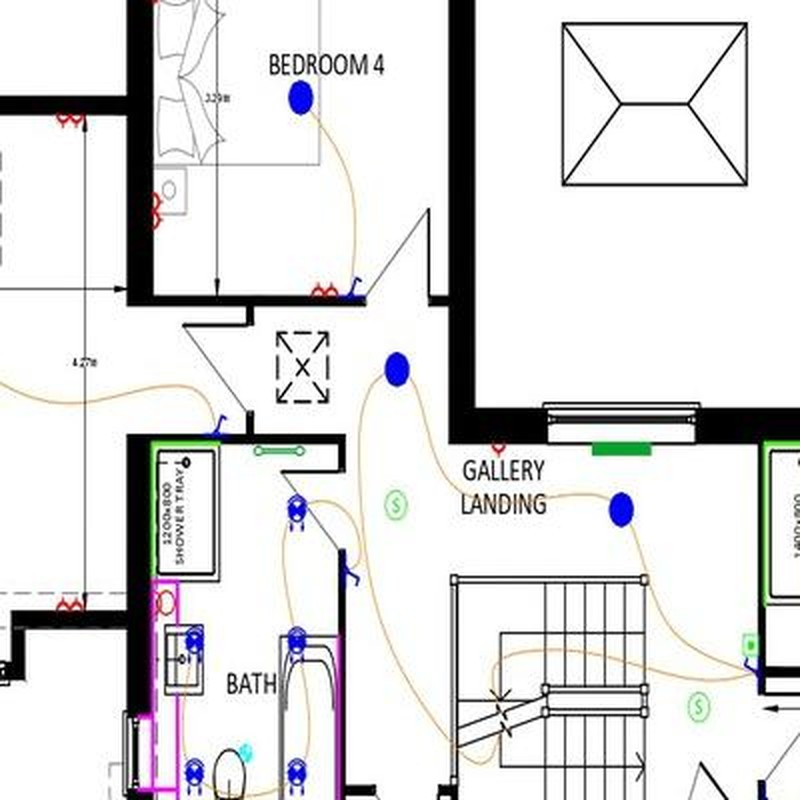Ceiling Mounted Continuous Extract FanWith Boost Mode Activated By Light Switch: (239, 744, 253, 762)
Double Socket: (55, 114, 84, 129), (153, 193, 165, 229), (55, 596, 83, 611), (311, 282, 339, 296)
Full Height Tiling: (150, 441, 220, 575), (763, 441, 800, 607)
Light Switch: (212, 414, 229, 434), (346, 565, 361, 587), (346, 277, 363, 295), (744, 658, 758, 677)
Low Energy Downlighter: (185, 758, 205, 796), (287, 494, 307, 531), (287, 627, 307, 663), (288, 758, 307, 795), (185, 627, 203, 663)
Low Energy Pendant Light: (609, 493, 635, 527), (385, 352, 410, 387), (289, 81, 313, 115)
Mains Wired Smoke Detector: (385, 490, 408, 520), (689, 693, 710, 721)
Programmable Room Thermostat: (742, 634, 758, 657)
Radiator: (591, 442, 652, 456)
Shaver Socket: (153, 590, 178, 622)
Single Socket: (491, 444, 506, 458)
